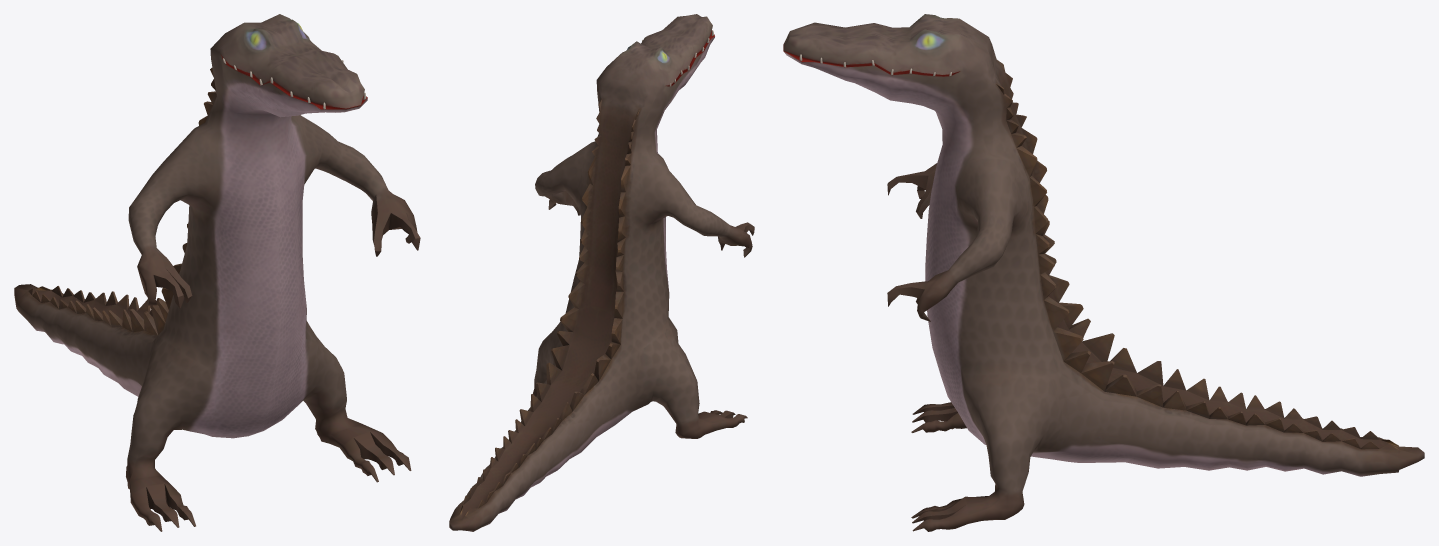
File: gator_anim_02.gltf
3 renders of one model, left to right at view 1: azimuth 30°, elevation 25°; view 2: azimuth 150°, elevation 25°; view 3: azimuth 270°, elevation 25°, orthographic. The views are drawn at different scales.
Parts seen in each view (by area): view 1: gator; view 2: gator; view 3: gator.
Part boxes in pixels (x1=…): gator: x1=14, y1=14, x2=420, y2=531; gator: x1=449, y1=14, x2=754, y2=531; gator: x1=783, y1=14, x2=1424, y2=531.
Bounding box in the file's own units: 1.16 × 1.95 × 2.49.
Materials: 1 (1 with a texture image).
